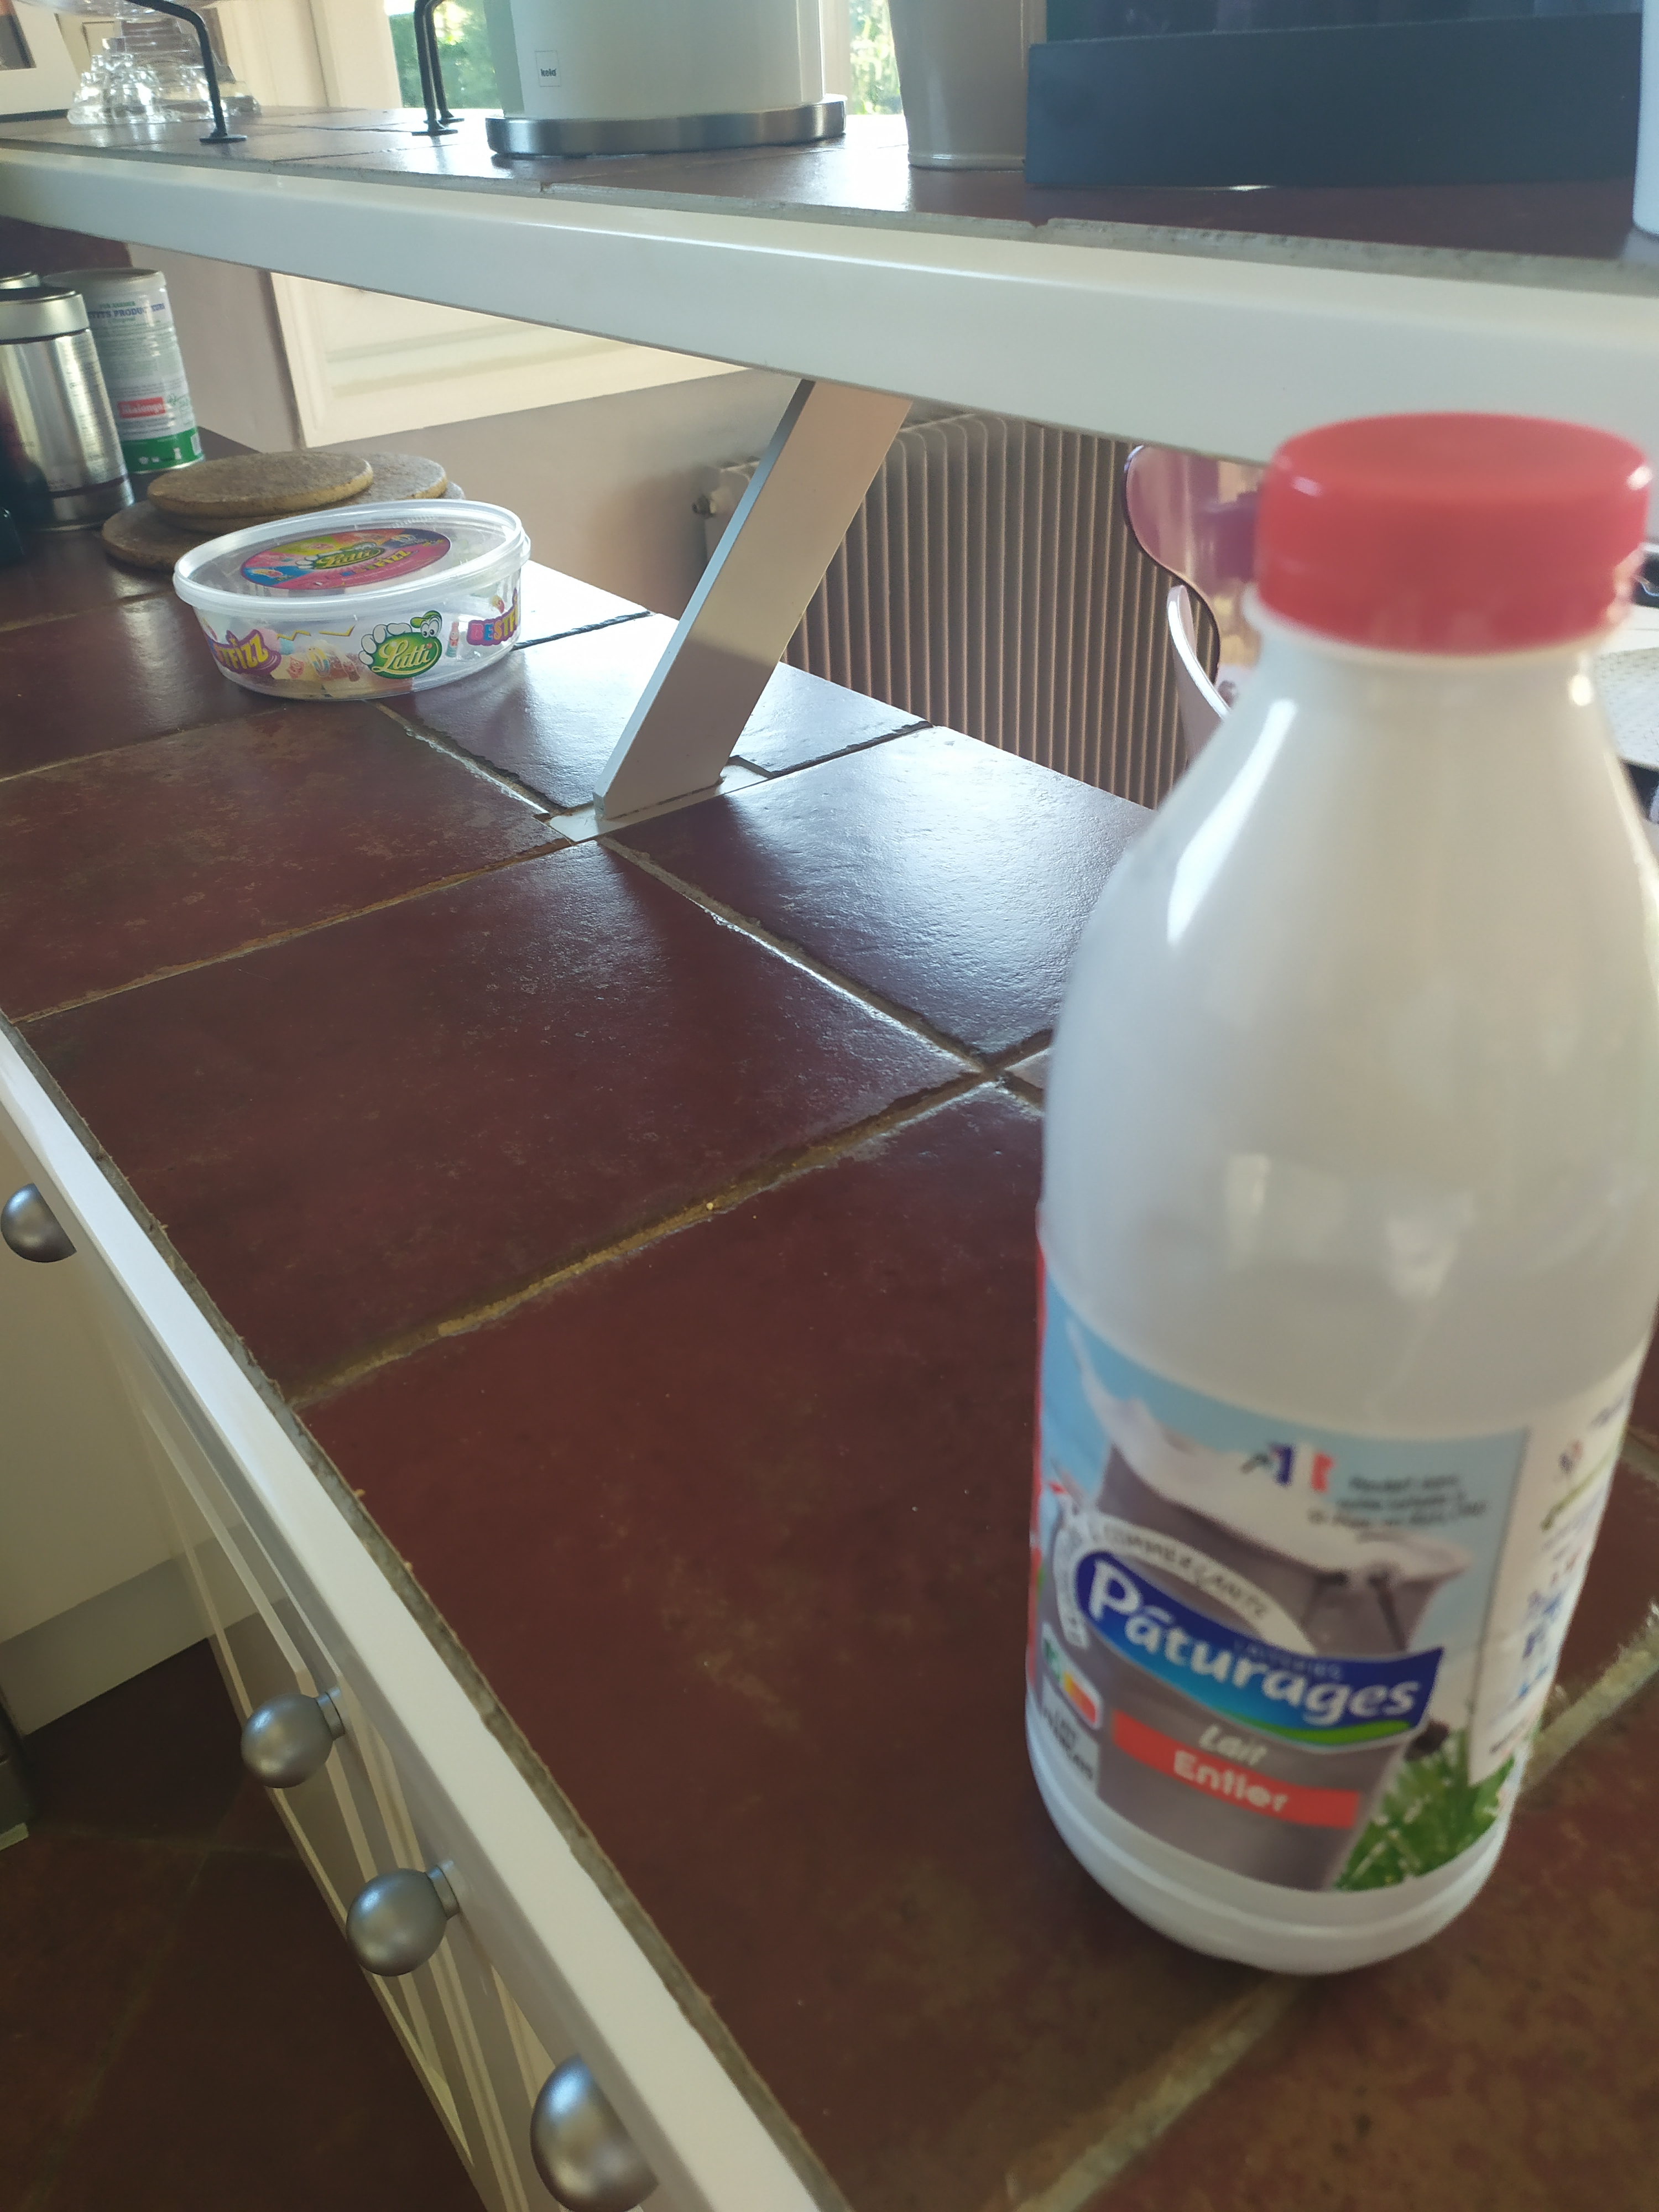milk: (1014, 408, 1650, 1979)
